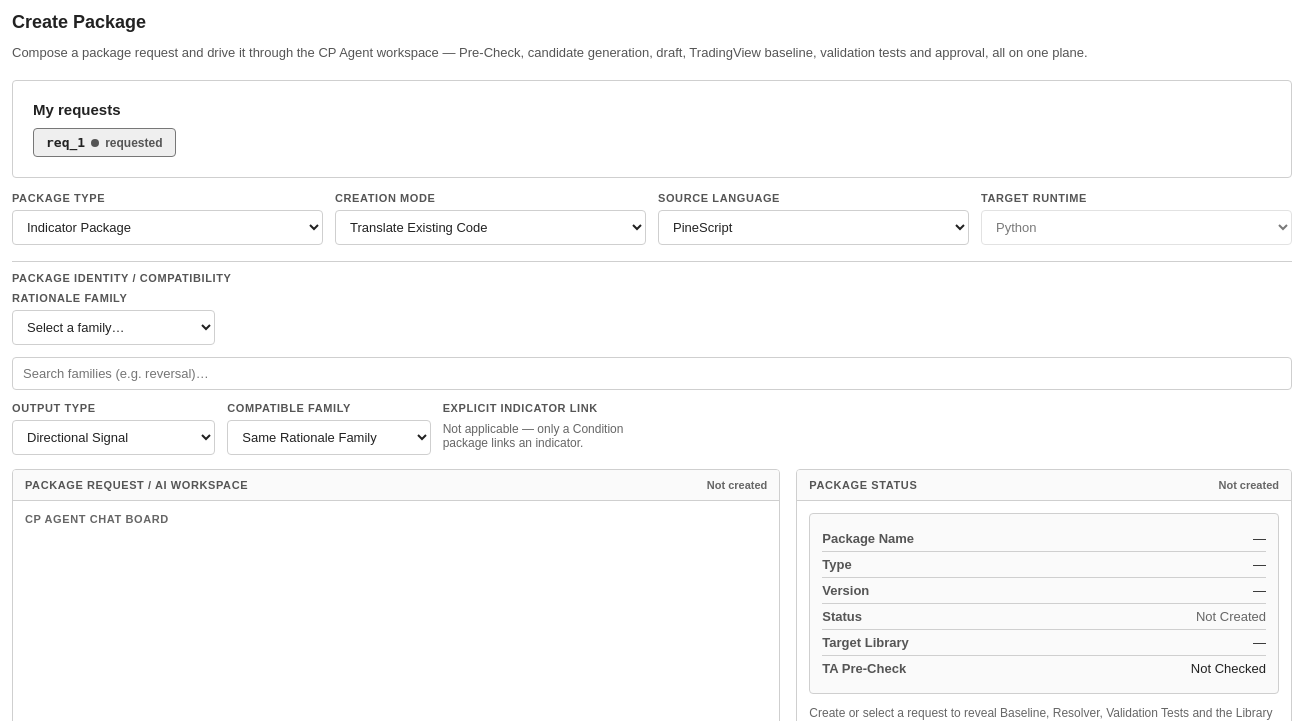
Scenario: Create Package page › opens the request detail with the read-only projection
Check: the text "req_1" is shown, box 46,135 -> 85,150
Click the button "req_1 requested" at (104, 142), box 33,128 -> 176,157
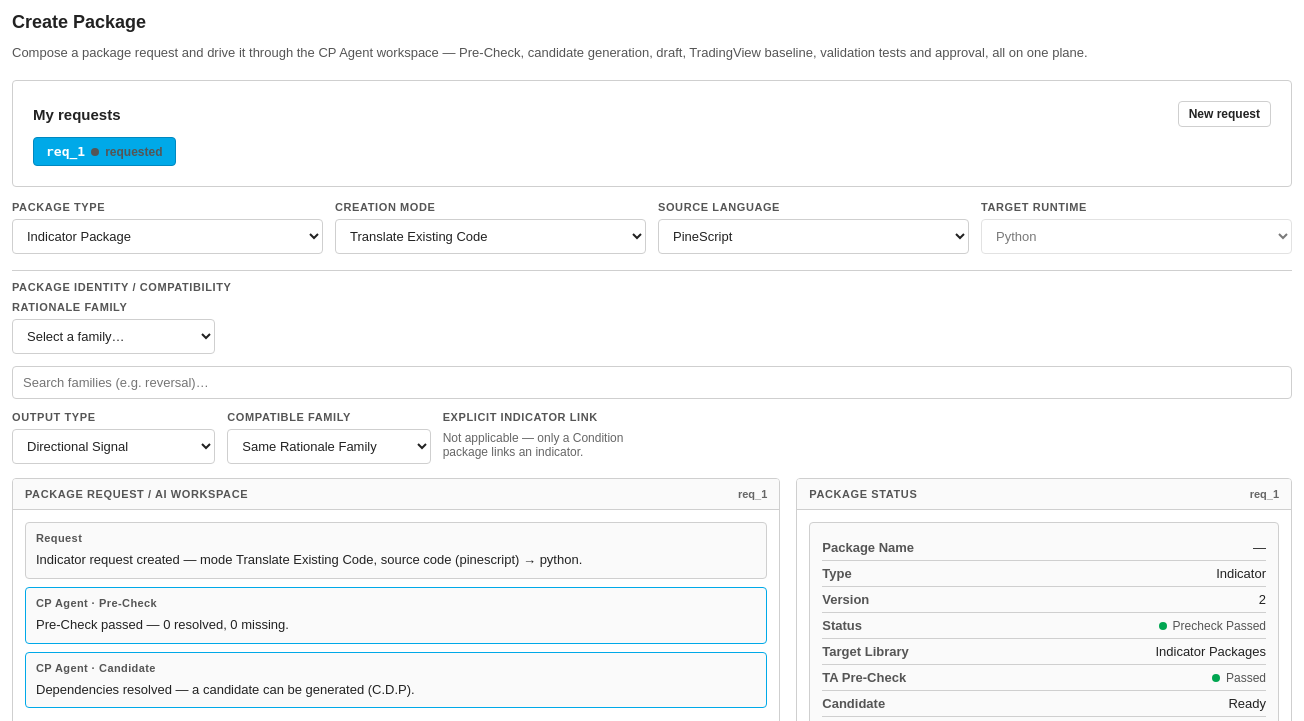
Check: the text "Precheck Passed" is shown, box 1159,619 -> 1266,633
Check: the text "Pre-Check passed" is shown, box 36,617 -> 289,632
